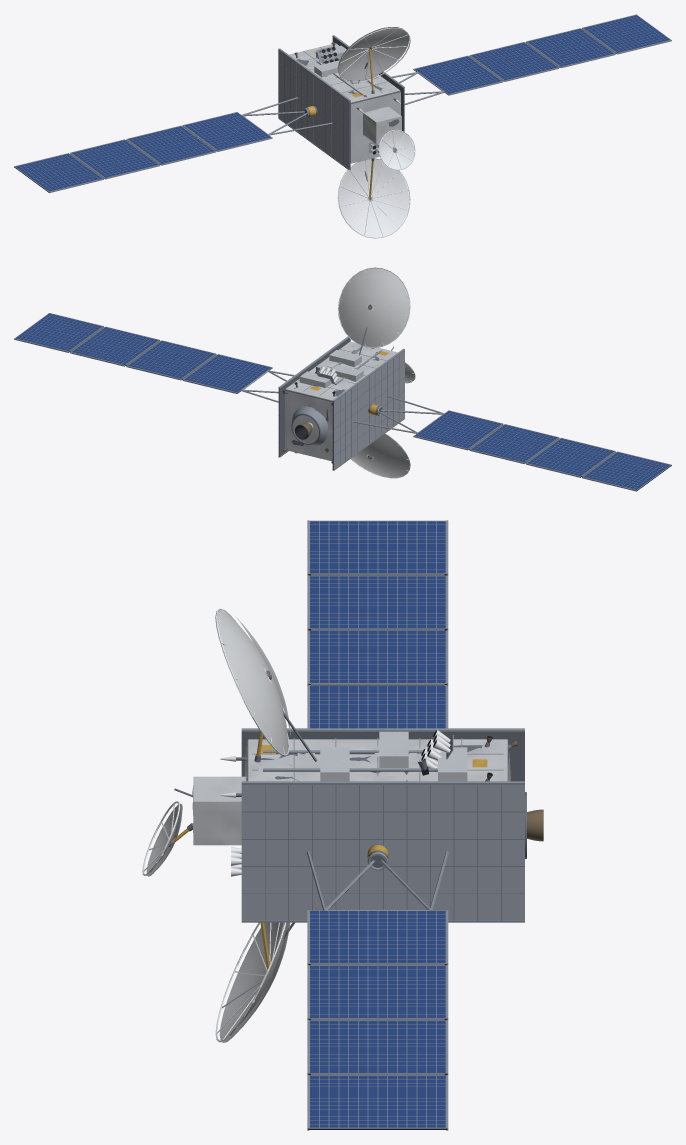
The model's file is bus-a2100ax.glb.
3 renders of one model, top to bottom at view 1: azimuth 30°, elevation 25°; view 2: azimuth 150°, elevation 25°; view 3: azimuth 270°, elevation 25°, orthographic. The views are drawn at different scales.
Visible parts, largest first — view 1: body, solar-panel, foil; view 2: body, solar-panel, foil; view 3: body, solar-panel, foil.
Part boxes in pixels (box(x1,y1,x2,y2)): body: box(14, 14, 671, 238); solar-panel: box(15, 15, 669, 191); foil: box(289, 43, 401, 198); body: box(14, 267, 671, 491); solar-panel: box(16, 313, 670, 489); foil: box(285, 307, 397, 461); body: box(142, 520, 543, 1130); solar-panel: box(310, 521, 445, 1127); foil: box(171, 673, 510, 976).
Size of the model in its own units: 26.9 by 8.64 by 7.5.
